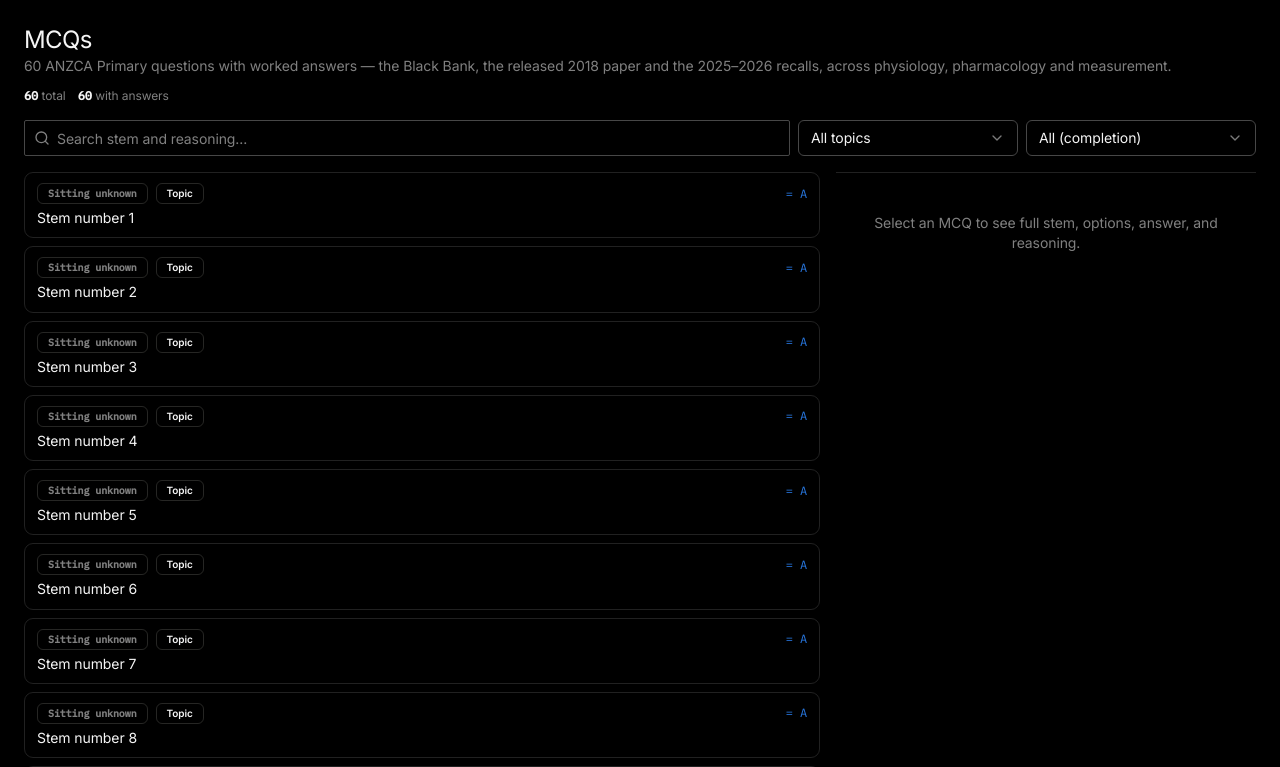
Test case: the detail card on a phone › does not scroll the page on the FIRST selection, when nothing moved
Click the button with test id "row-mcq-Q4" at (92, 416), box left=24, top=395, right=820, bottom=461
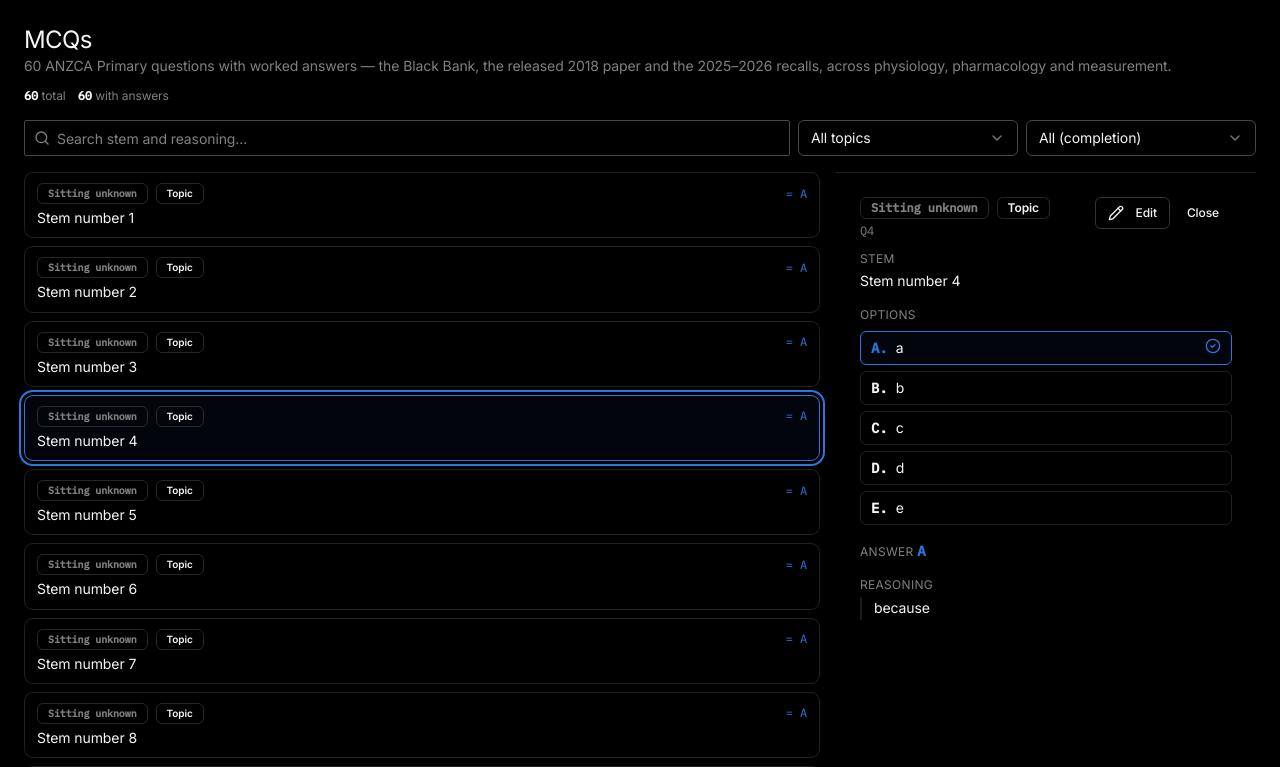
expect the element with test id "card-mcq-detail-Q4" is shown: met, box left=836, top=172, right=1256, bottom=644
